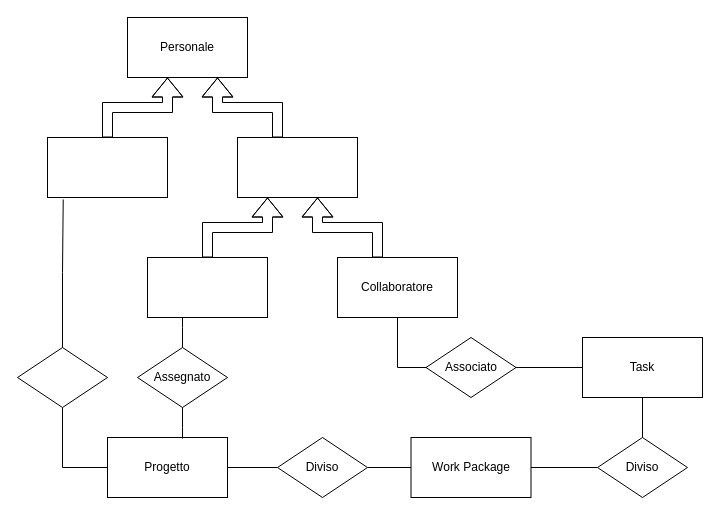
This 720x515 diagram has some shape labels left out. The shapes that lost their labels are listed below. From the top down, each one's centre as x and y in pixels, then its label:
At [107,167]: "Personale Amministrativo".
At [297,167]: "Personale Tecnico".
At [207,287]: "Responsabile".
At [62,377]: "Crea".
